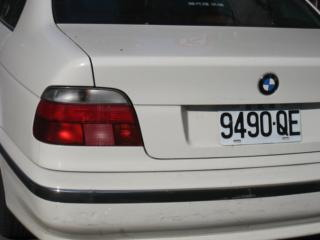plate: (216, 106, 304, 144)
